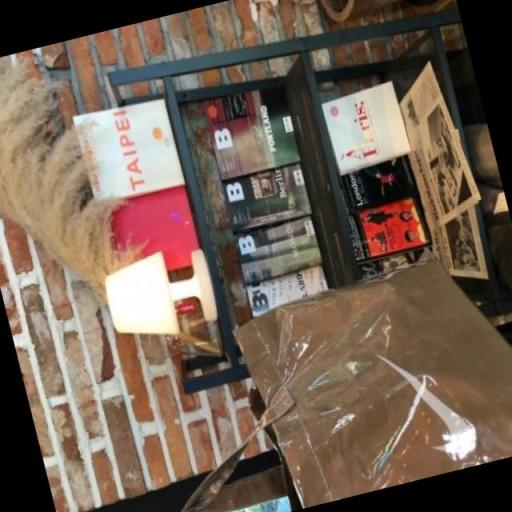Nike: (374, 330, 481, 465)
